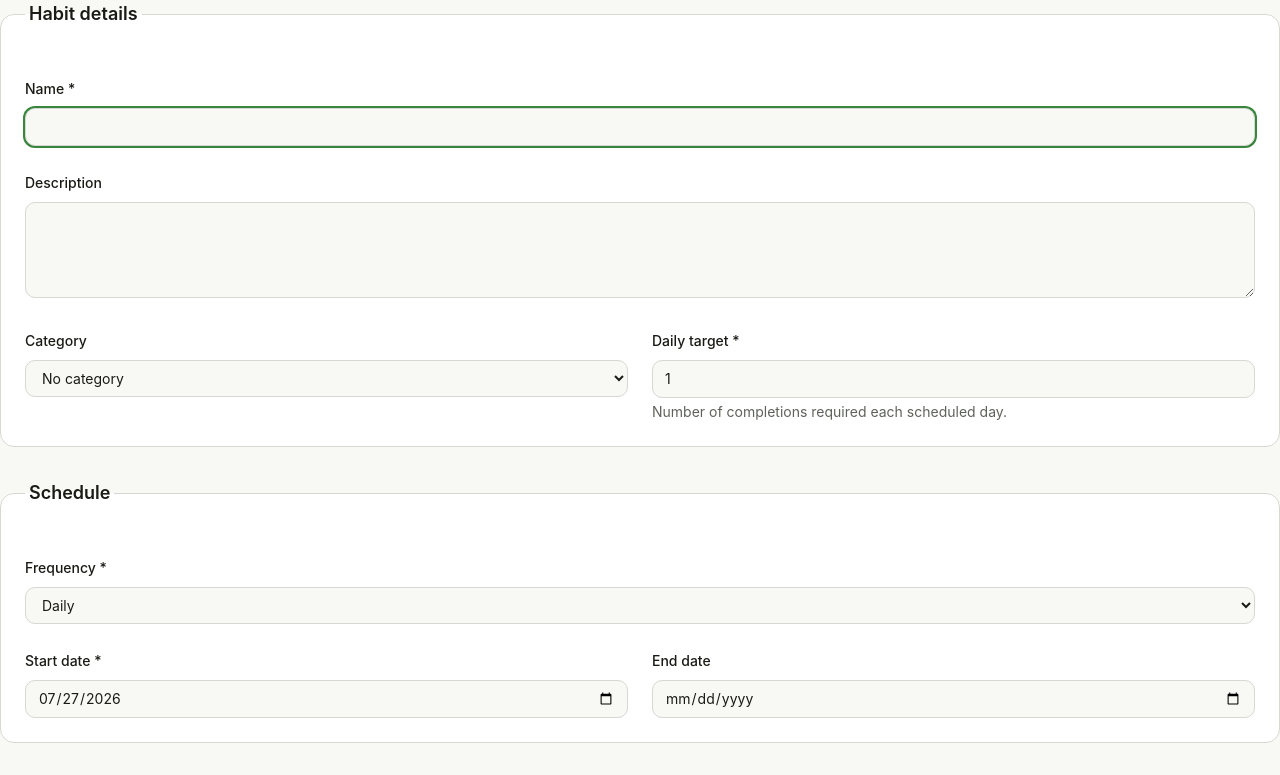
Test case: HabitForm › renders create fields, categories, and daily schedule behavior
expect the element "Habit details" is shown: met, box [0,0,1279,447]
expect the checkbox labelled "Mon" is not shown: met
Step 1. Select "Weekly" in the dropdown labelled "Frequency *" → {"x": 640, "y": 606}, box [25,587,1255,624]
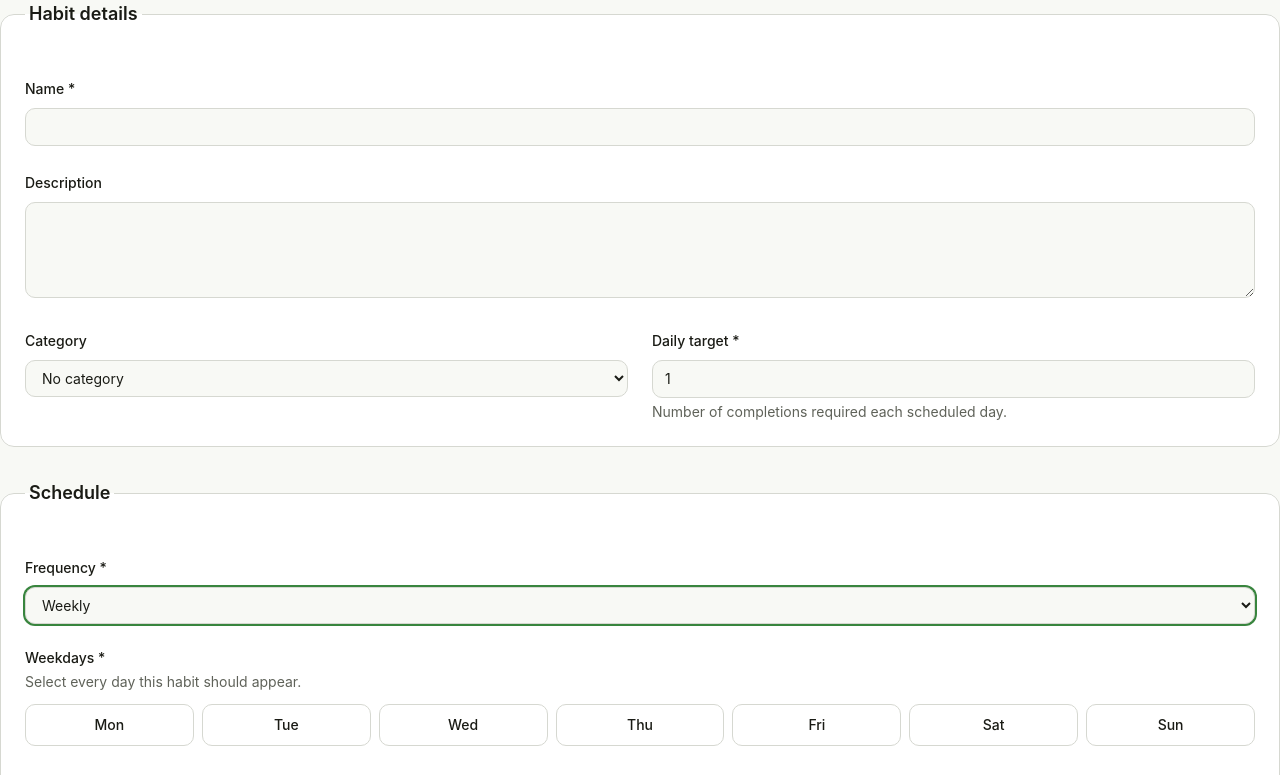
expect the checkbox labelled "Mon" is shown: met, box [25,704,194,746]
